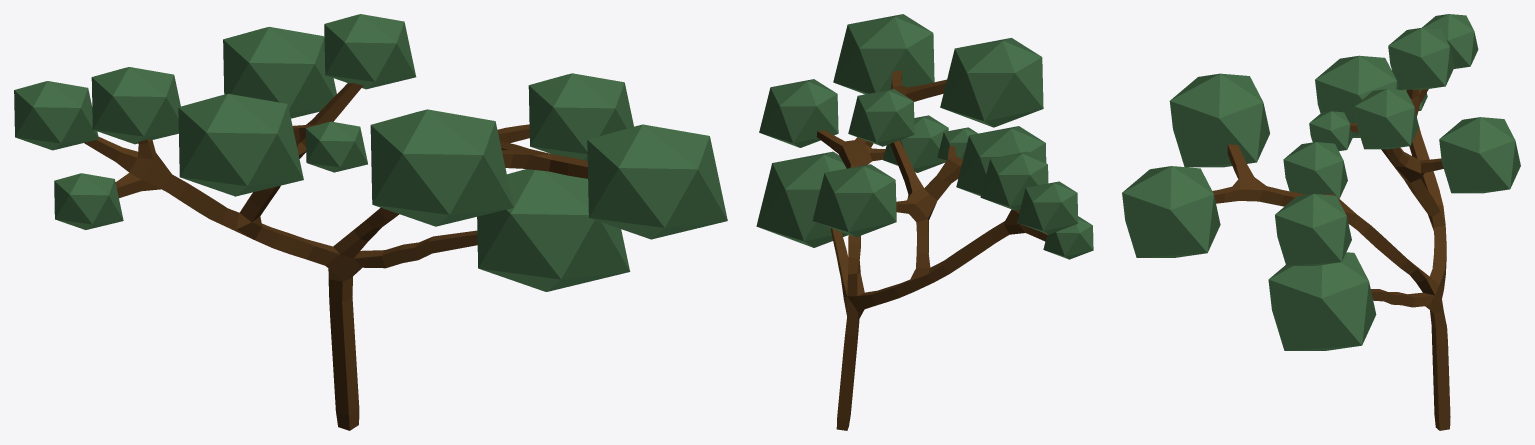
File: Bonsai drvo.fbx
3 renders of one model, left to right at view 1: azimuth 30°, elevation 25°; view 2: azimuth 150°, elevation 25°; view 3: azimuth 270°, elevation 25°, orthographic. The views are drawn at different scales.
Visible parts, largest first — view 1: Bonasi; view 2: Bonasi; view 3: Bonasi.
Boxes of the visible parts, x1=… form: Bonasi: x1=14, y1=14, x2=727, y2=430; Bonasi: x1=756, y1=14, x2=1093, y2=430; Bonasi: x1=1122, y1=14, x2=1520, y2=430.
Size of the model in its own units: 117 by 96.53 by 106.
